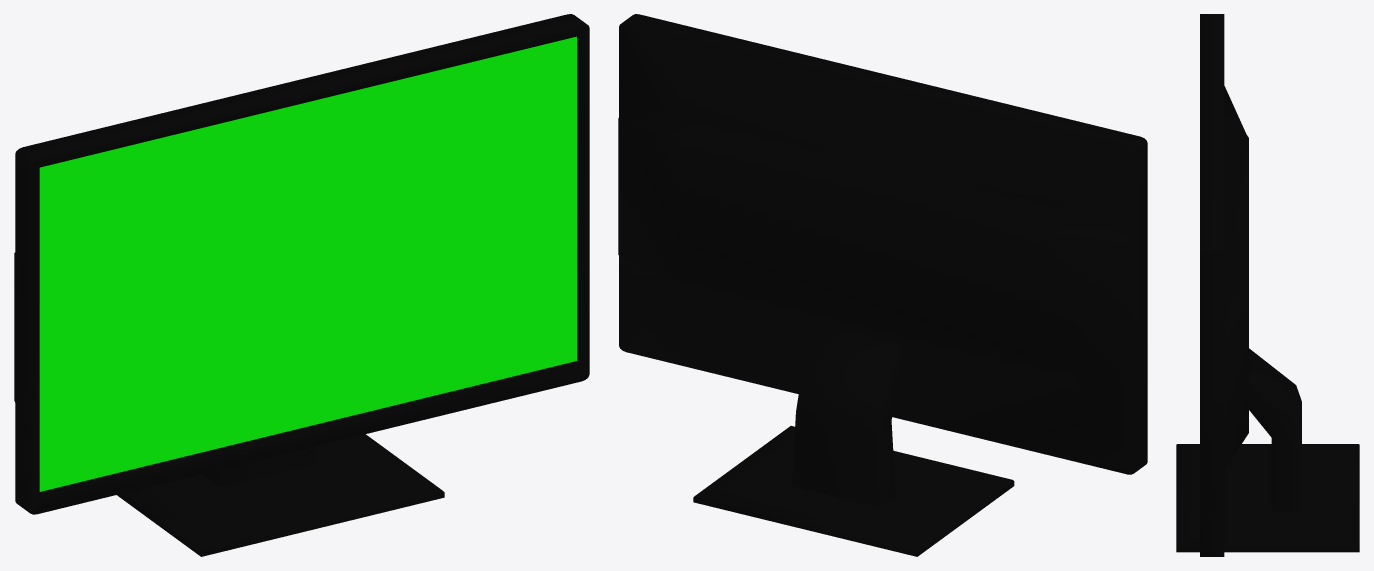
Rendered from SmallMonitor.gltf.
3 views of the same model, side by side, from view 1: azimuth 30°, elevation 25°; view 2: azimuth 150°, elevation 25°; view 3: azimuth 270°, elevation 25° (orthographic). The views are drawn at different scales.
Parts seen in each view (by area): view 1: Small Monitor Screen; view 2: Small Monitor Screen; view 3: Small Monitor Screen.
Boxes of the visible parts, left/top/right/bottom form: Small Monitor Screen: left=14, top=14, right=589, bottom=556; Small Monitor Screen: left=618, top=14, right=1147, bottom=556; Small Monitor Screen: left=1176, top=14, right=1359, bottom=556.
Size of the model in its own units: 0.46 by 0.3345 by 0.15.
1 material, 1 textured.
